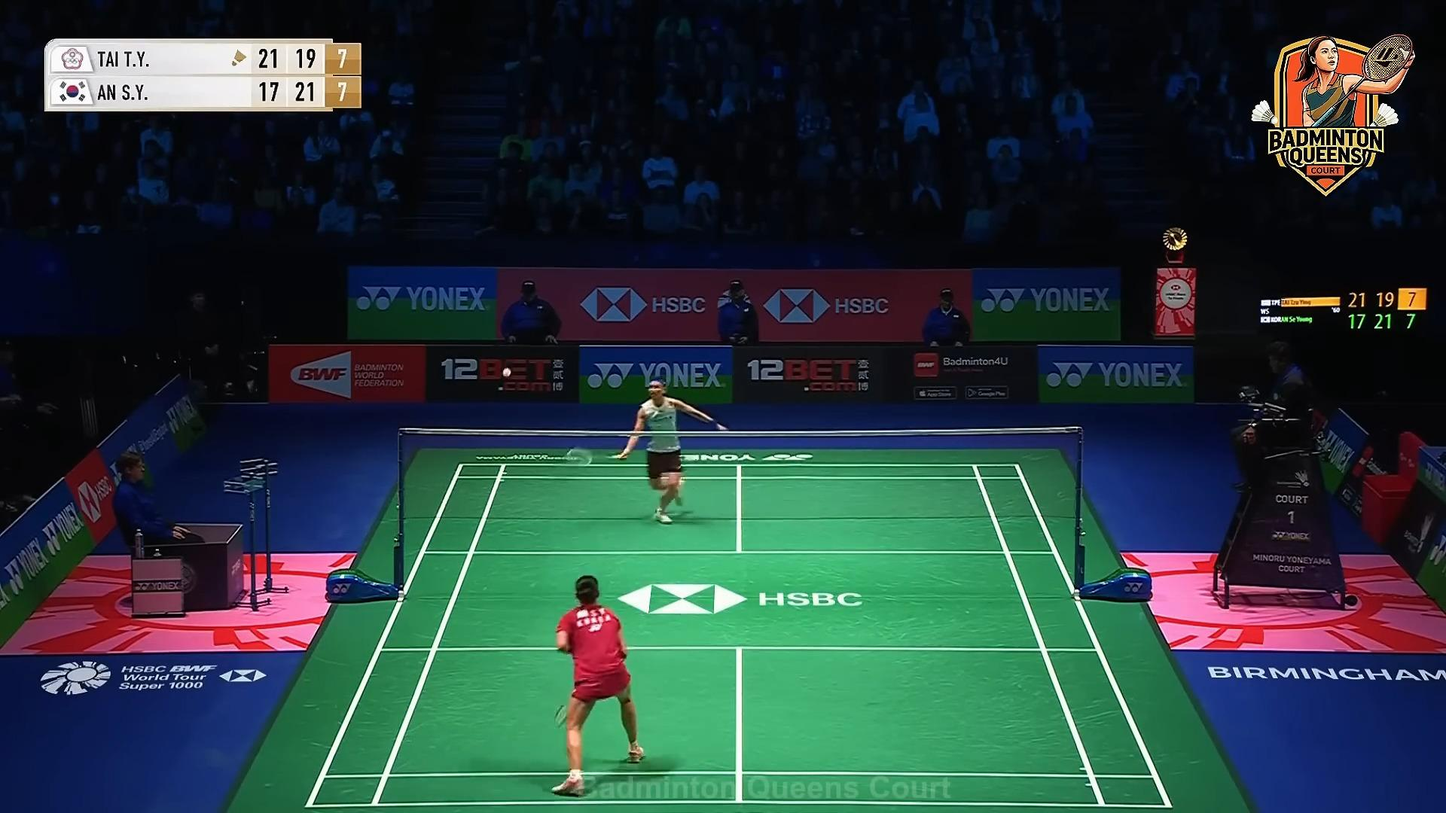player: (552, 575, 645, 796), (618, 377, 725, 525)
shuttlecock: (502, 366, 512, 378)
